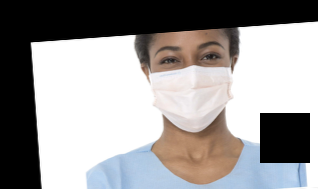with_mask: (149, 40, 232, 133)
